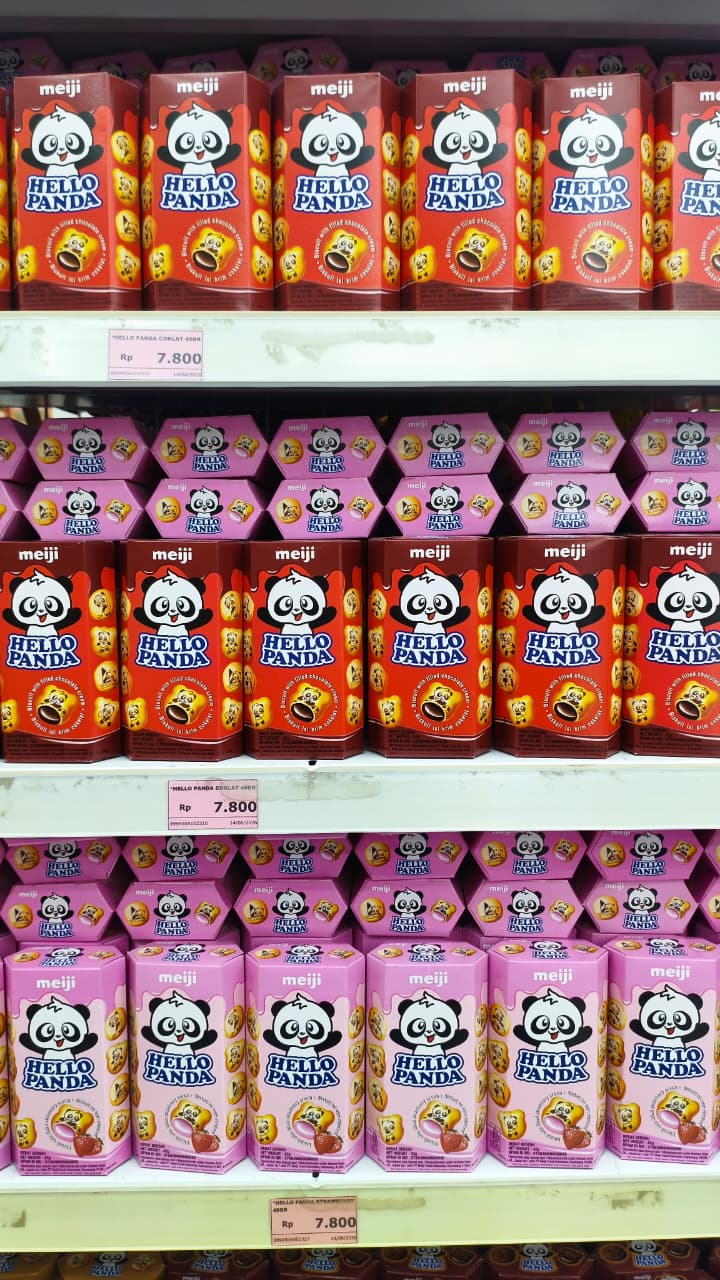Hello Panda: (122, 558, 220, 685), (377, 557, 475, 684), (241, 554, 339, 681), (543, 103, 641, 230), (411, 101, 509, 228), (279, 103, 377, 230), (149, 95, 247, 222), (18, 99, 116, 226), (510, 559, 608, 686), (135, 975, 233, 1102), (255, 978, 353, 1105), (381, 981, 479, 1108), (504, 974, 602, 1101), (620, 976, 718, 1103), (622, 548, 720, 675), (11, 989, 109, 1116), (1, 562, 98, 689)
